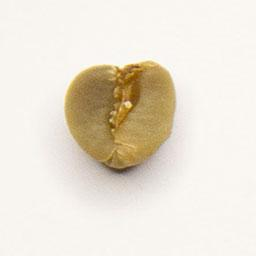premium: (60, 59, 181, 175)
